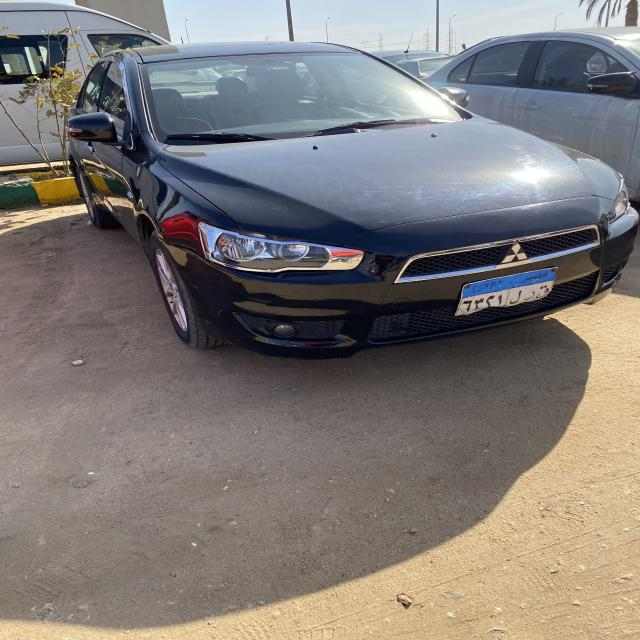License Plate: (455, 267, 558, 316)
